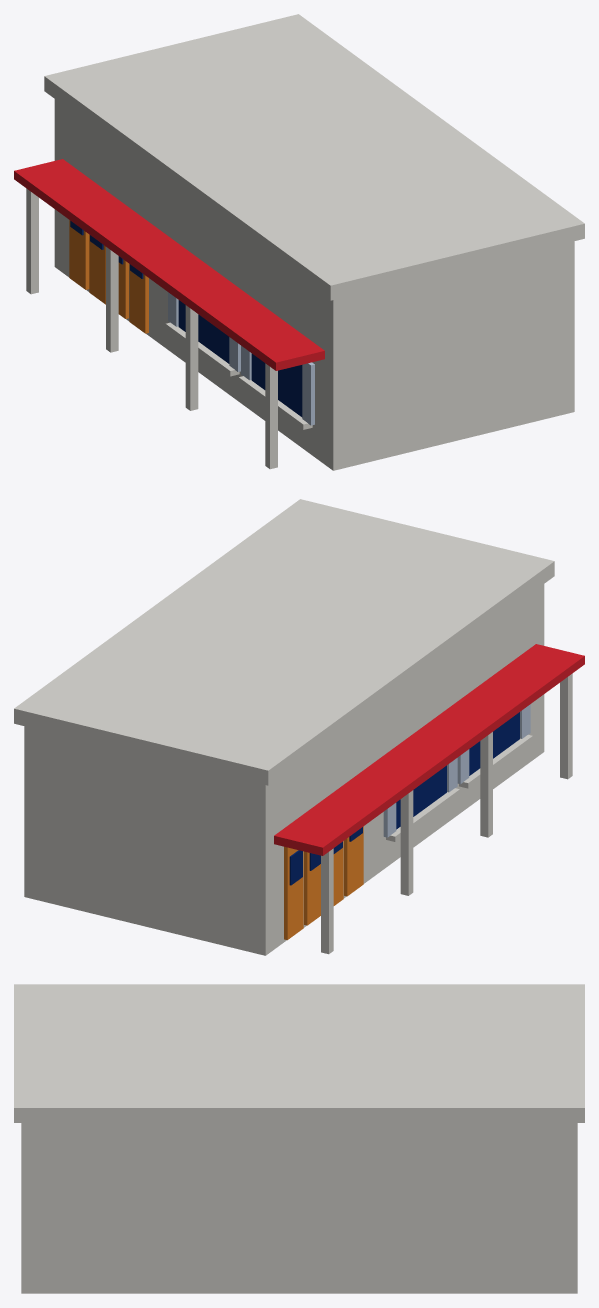
The model's file is citypop_suburban_motel.glb.
3 views of the same model, one above another, from view 1: azimuth 30°, elevation 25°; view 2: azimuth 150°, elevation 25°; view 3: azimuth 270°, elevation 25° (orthographic).
Visible parts, largest first — view 1: SuburbanMotel; view 2: SuburbanMotel; view 3: SuburbanMotel.
Boxes of the visible parts, bbox=[...] form: SuburbanMotel: bbox=[14, 14, 584, 470]; SuburbanMotel: bbox=[14, 499, 584, 955]; SuburbanMotel: bbox=[14, 984, 584, 1293].
Size of the model in its own units: 10.33 by 6.31 by 17.25.
